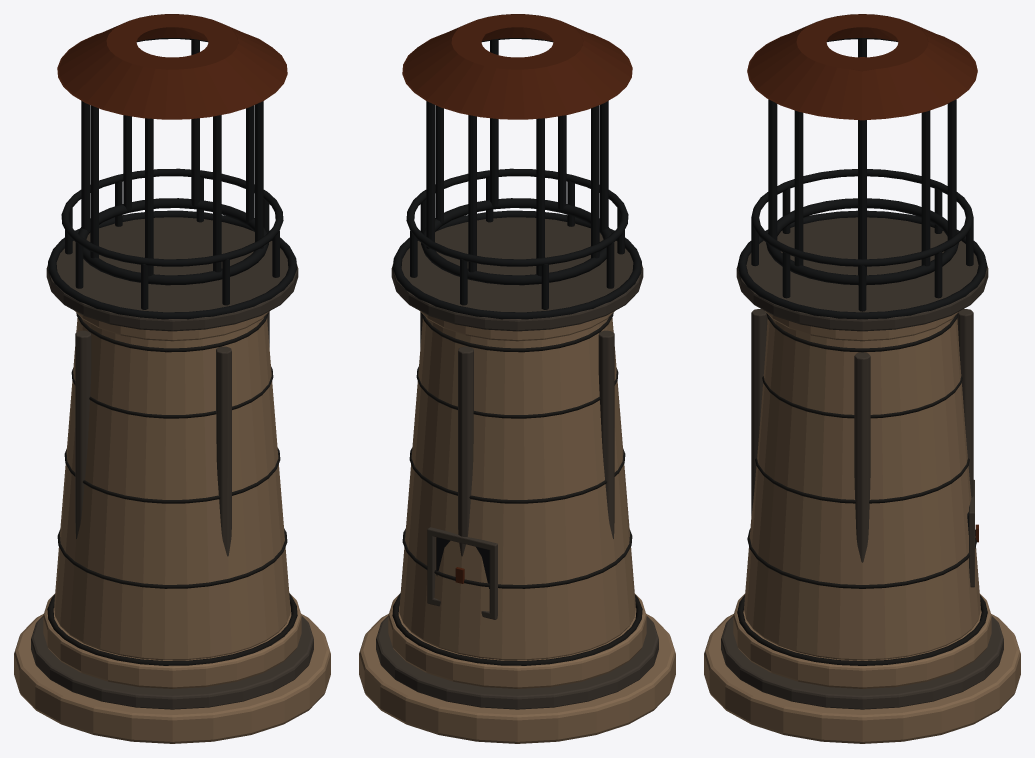
File: lighthouse-tower.glb
3 renders of one model, left to right at view 1: azimuth 30°, elevation 25°; view 2: azimuth 150°, elevation 25°; view 3: azimuth 270°, elevation 25°, orthographic.
Parts seen in each view (by area): view 1: LighthouseTower_StoneAssembly, LighthouseTower_Stone_DarkAssembly, LighthouseTower_IronAssembly, LighthouseTower_CopperAssembly, LighthouseTower_JointAssembly; view 2: LighthouseTower_StoneAssembly, LighthouseTower_Stone_DarkAssembly, LighthouseTower_IronAssembly, LighthouseTower_CopperAssembly, LighthouseTower_JointAssembly; view 3: LighthouseTower_StoneAssembly, LighthouseTower_Stone_DarkAssembly, LighthouseTower_IronAssembly, LighthouseTower_CopperAssembly, LighthouseTower_JointAssembly.
Boxes of the visible parts, x1,y1,x2,y2 form: LighthouseTower_StoneAssembly: (14,311,330,743); LighthouseTower_Stone_DarkAssembly: (31,217,313,709); LighthouseTower_IronAssembly: (48,38,296,319); LighthouseTower_CopperAssembly: (57,14,287,119); LighthouseTower_JointAssembly: (47,312,297,665); LighthouseTower_StoneAssembly: (359,311,675,743); LighthouseTower_Stone_DarkAssembly: (376,217,658,709); LighthouseTower_IronAssembly: (393,38,641,588); LighthouseTower_CopperAssembly: (402,14,632,583); LighthouseTower_JointAssembly: (392,312,642,665); LighthouseTower_StoneAssembly: (704,311,1020,743); LighthouseTower_Stone_DarkAssembly: (721,217,1003,709); LighthouseTower_IronAssembly: (737,38,987,534); LighthouseTower_CopperAssembly: (747,14,978,542); LighthouseTower_JointAssembly: (737,313,987,665).
Size of the model in its own units: 3.6 by 7.99 by 3.6.
